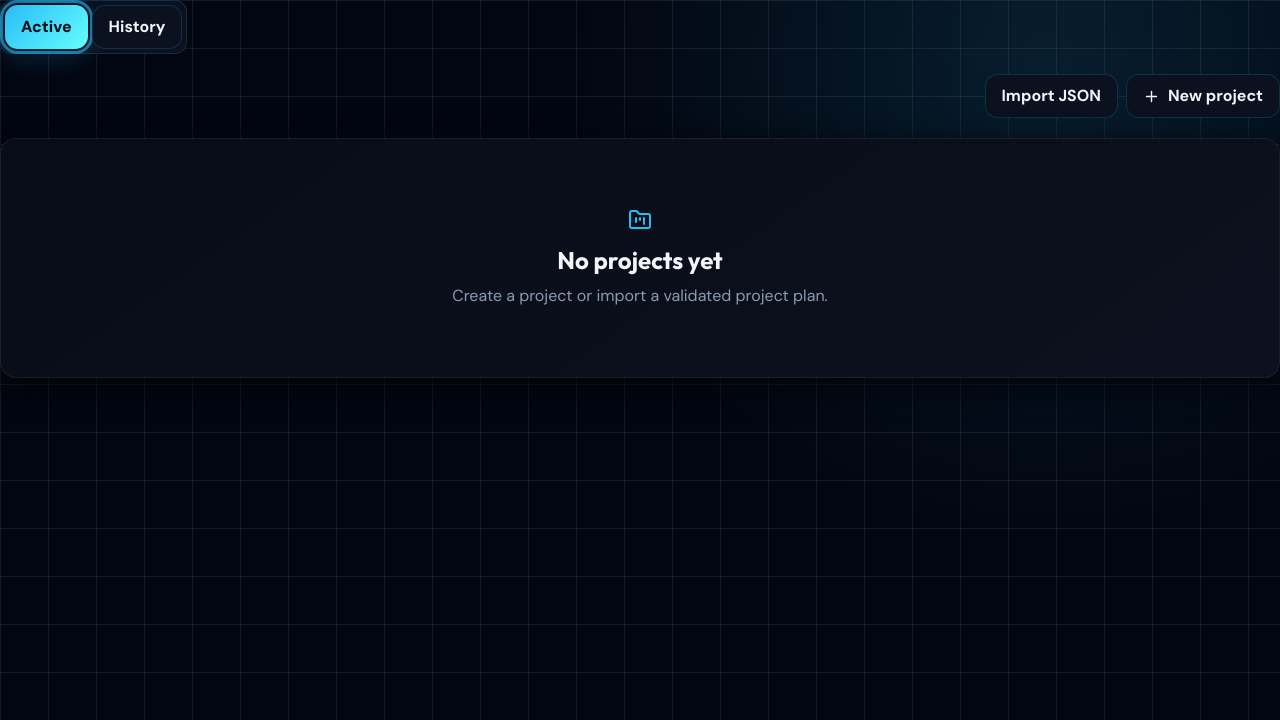
Test: ProjectPanel resource and form states › allows keyboard movement between Active and History
This screenshot has width=1280, height=720.
Press Arrowright
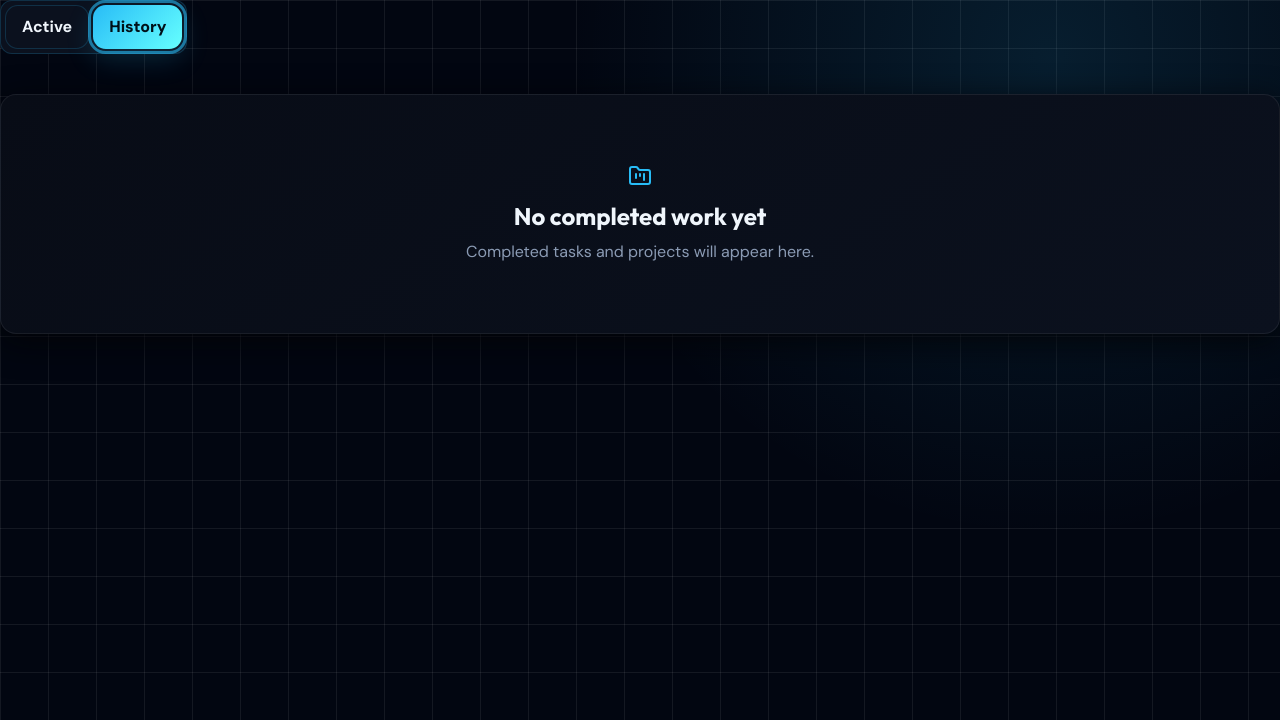
Result: the tab "History" is selected at [93,5,182,49]
Press Arrowleft
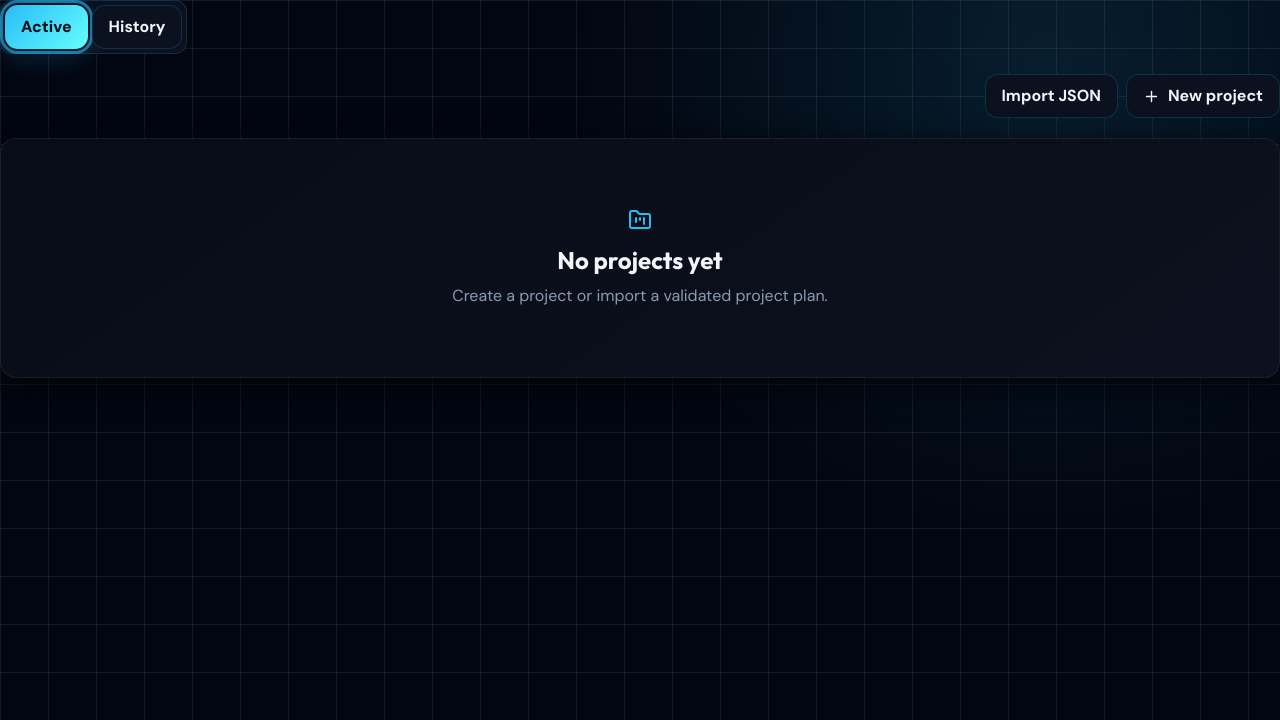
Click the button "New project" at x=1203, y=96, box [1126,74,1279,118]
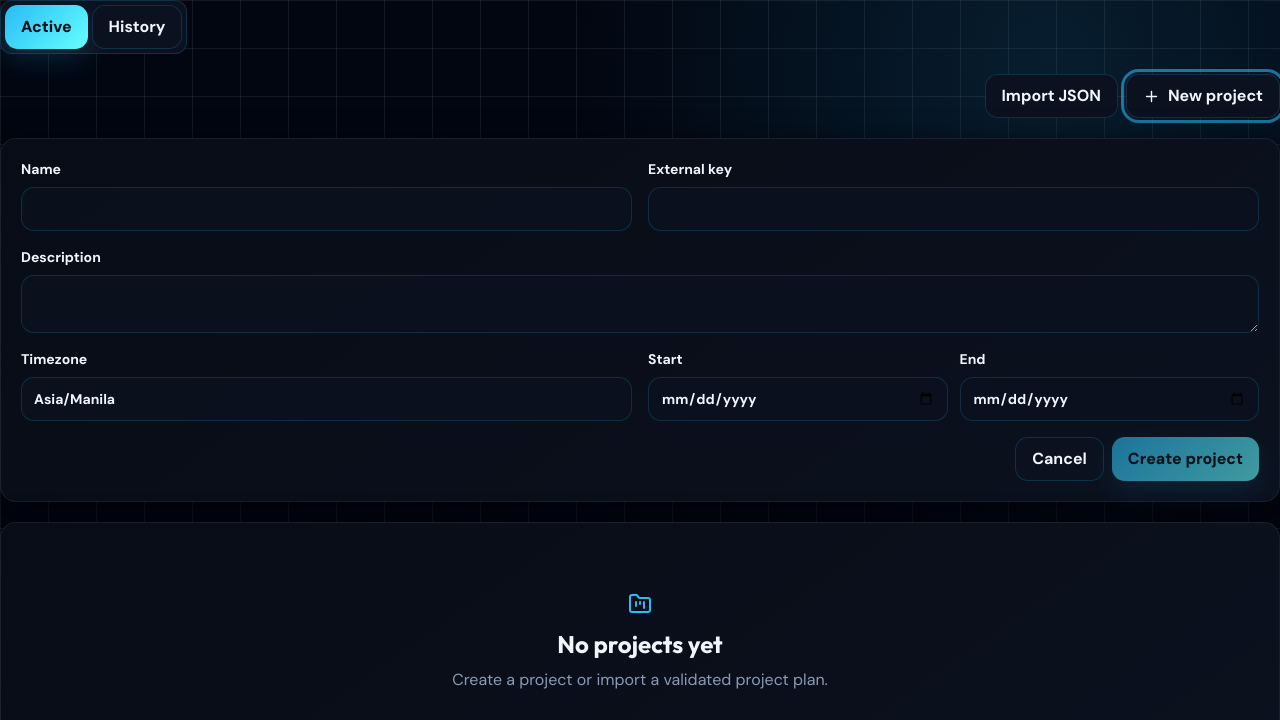
Result: the button "Create project" is shown at [1112,437,1259,481]
Click the tab "History" at x=137, y=27, box [92,5,182,49]
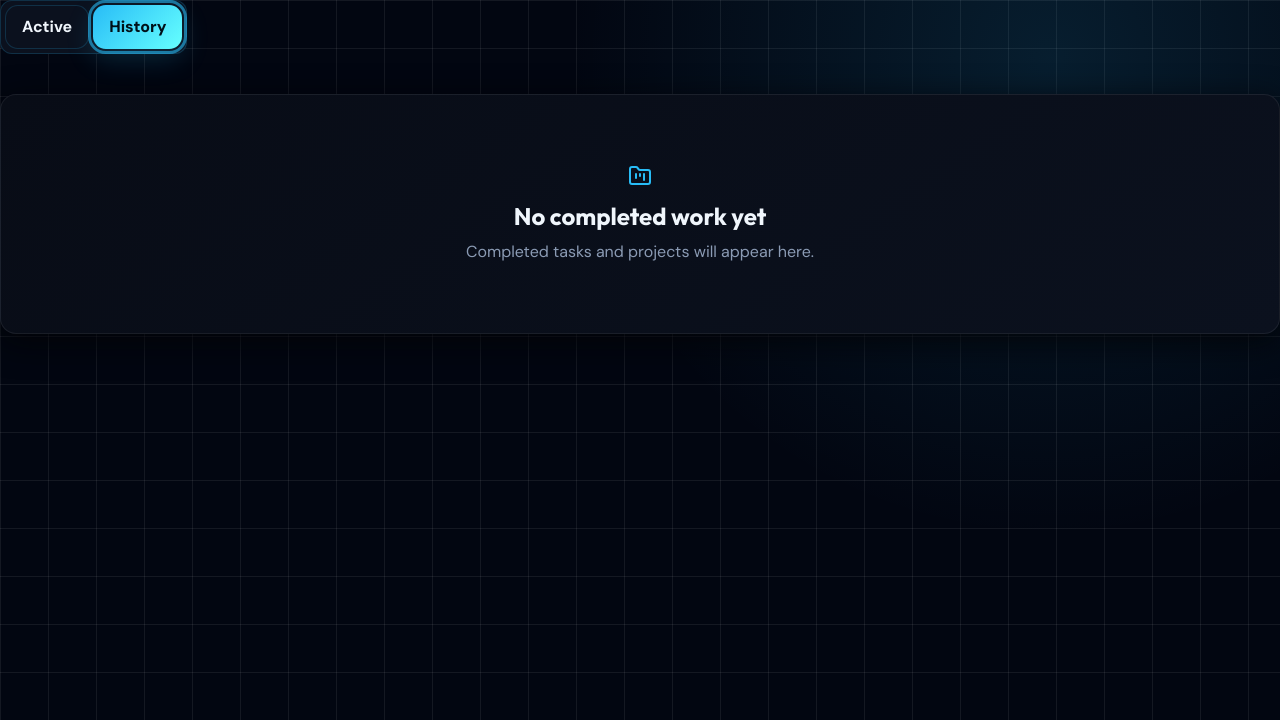
Result: the button "Create project" is gone
